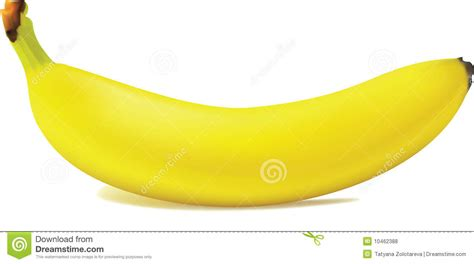banana: (28, 48, 474, 209)
